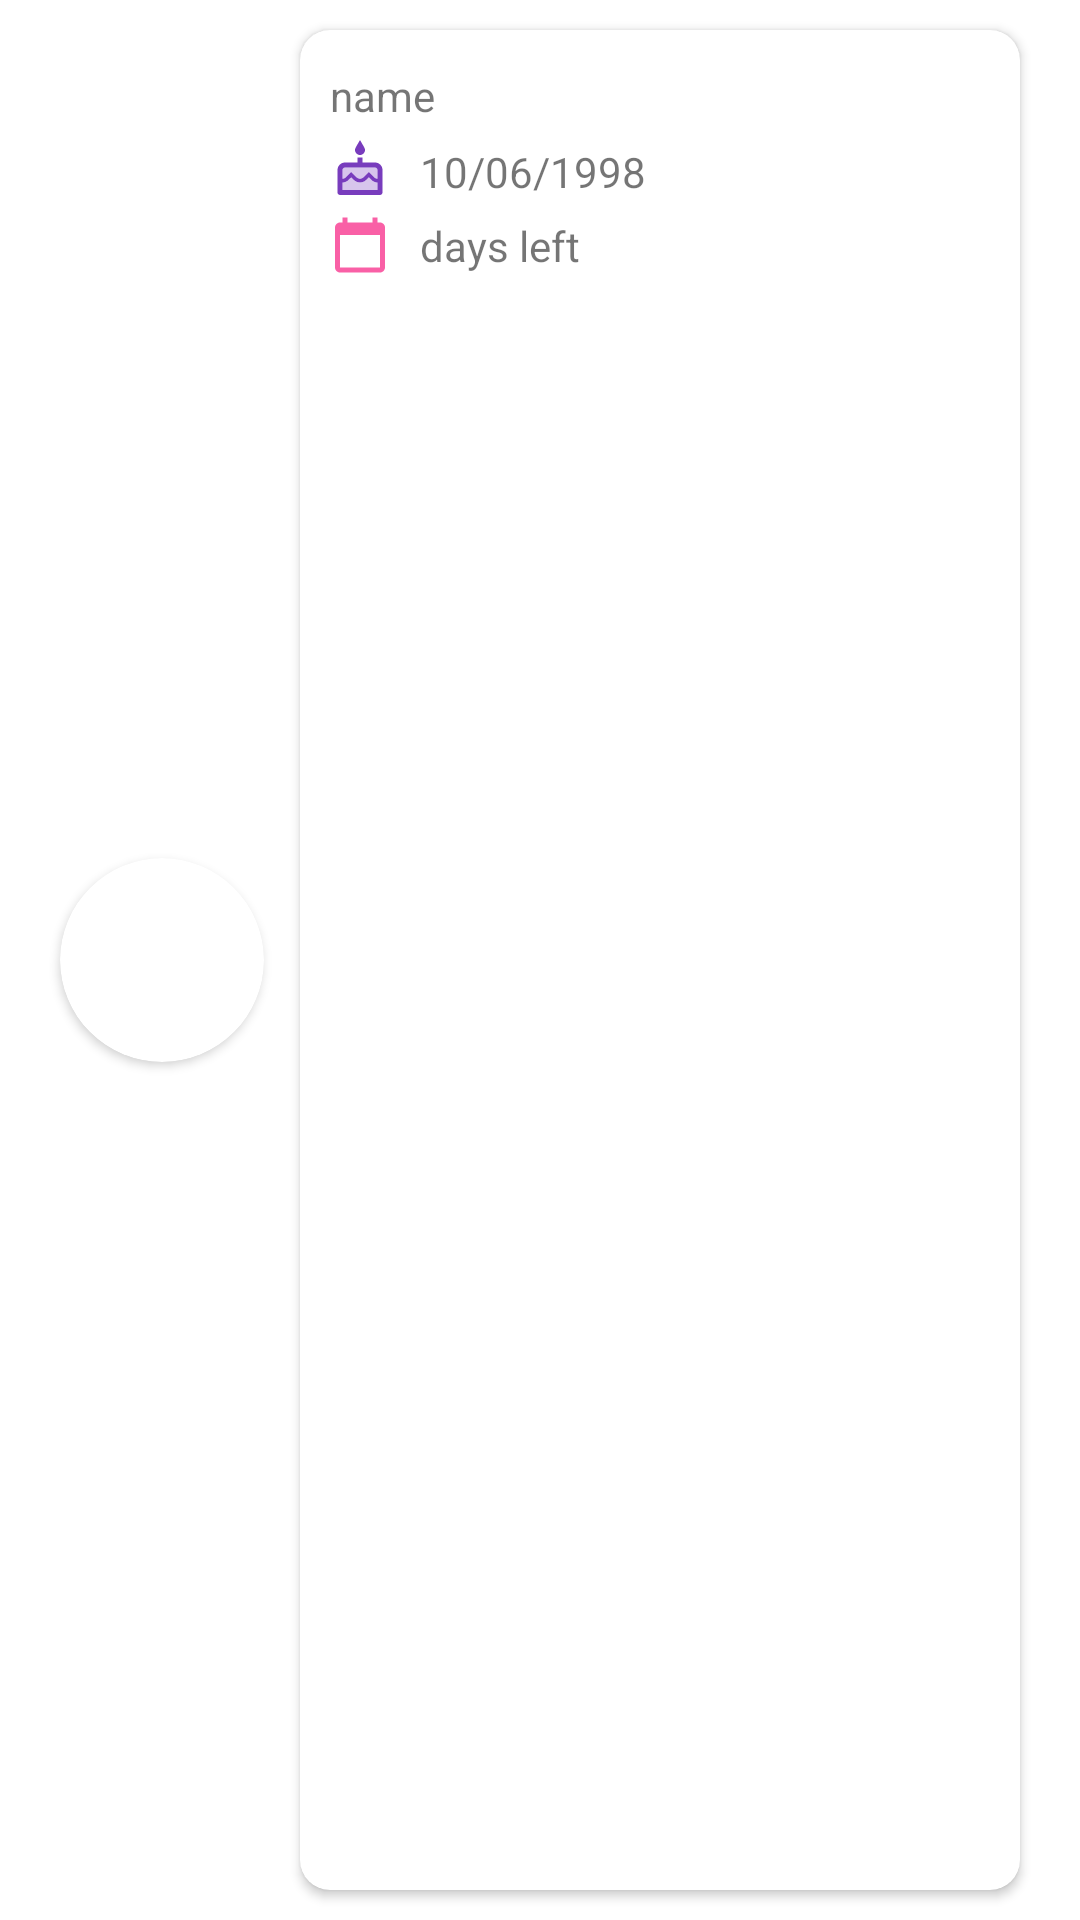

Screen size 1080px×1920px. Icon name, then its center in pixels as [x,y]:
cake: [360,167]
